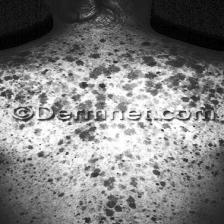Benign Marking or Mole: (0, 55, 224, 106), (59, 120, 177, 170)
